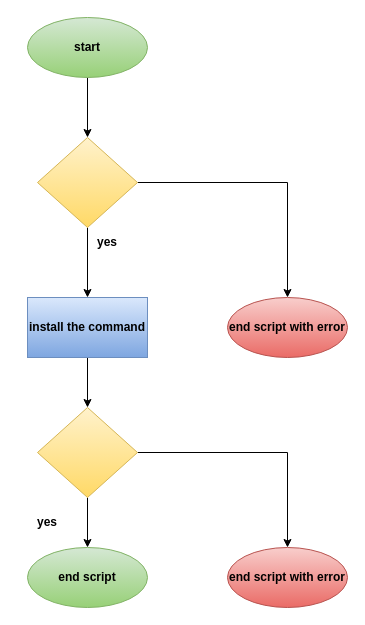
This 365x625 diagram has some shape labels left out. The shapes that lost their labels are listed below. From the top down, each one's centre as x and y in pixels, then its label:
(87,182): check root access or not
(87,452): command success or not
